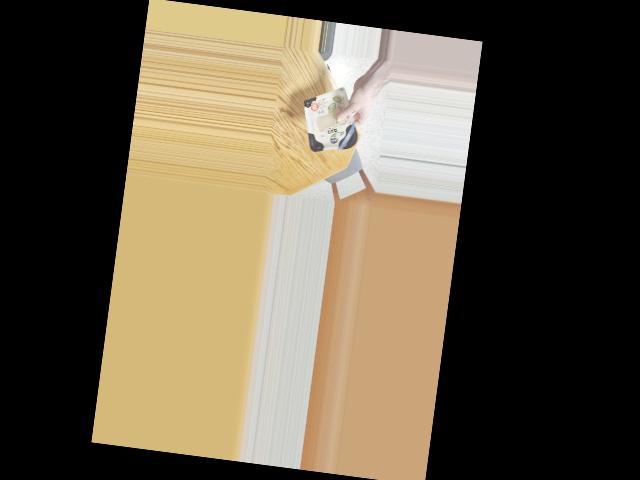cheese: (298, 93, 364, 158)
